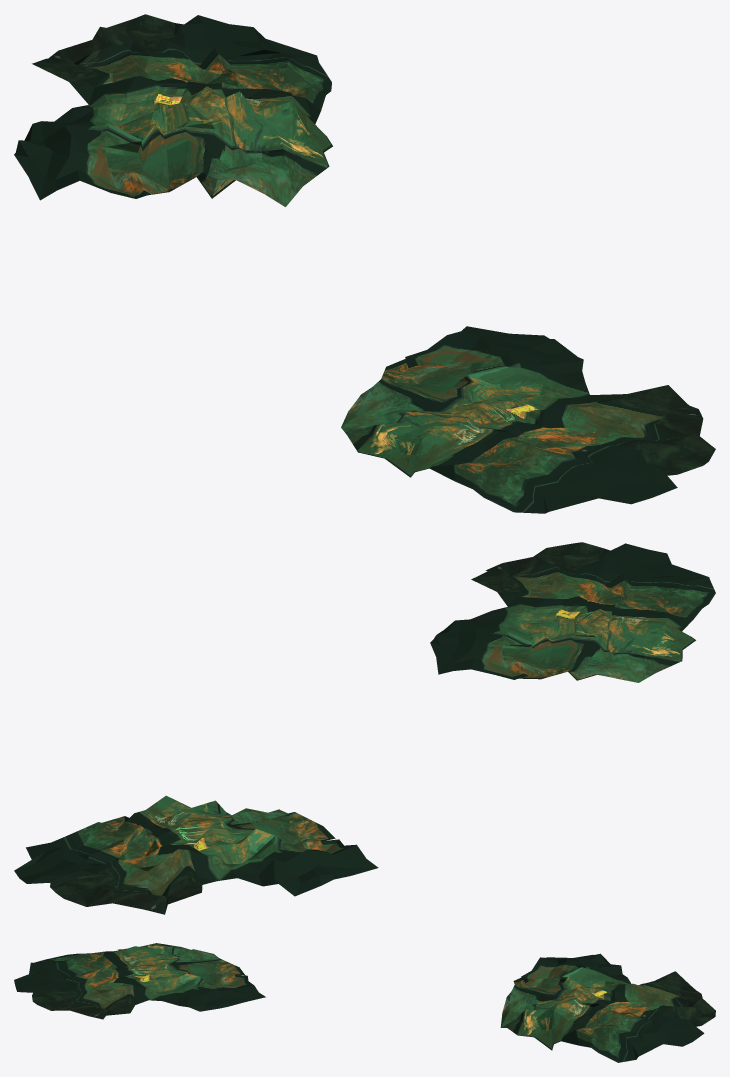
Rendered from SM_wallscmuDMP.fbx.
3 views of the same model, one above another, from view 1: azimuth 30°, elevation 25°; view 2: azimuth 150°, elevation 25°; view 3: azimuth 270°, elevation 25° (orthographic). The views are drawn at different scales.
Visible parts, largest first — view 1: SM_grbge9.001; view 2: SM_grbge9.001; view 3: SM_grbge9.001.
Part boxes in pixels (bbox=[...]): SM_grbge9.001: bbox=[14, 14, 715, 513]; SM_grbge9.001: bbox=[14, 542, 715, 914]; SM_grbge9.001: bbox=[14, 943, 715, 1062].
Size of the model in its own units: 718 by 113 by 2000.
